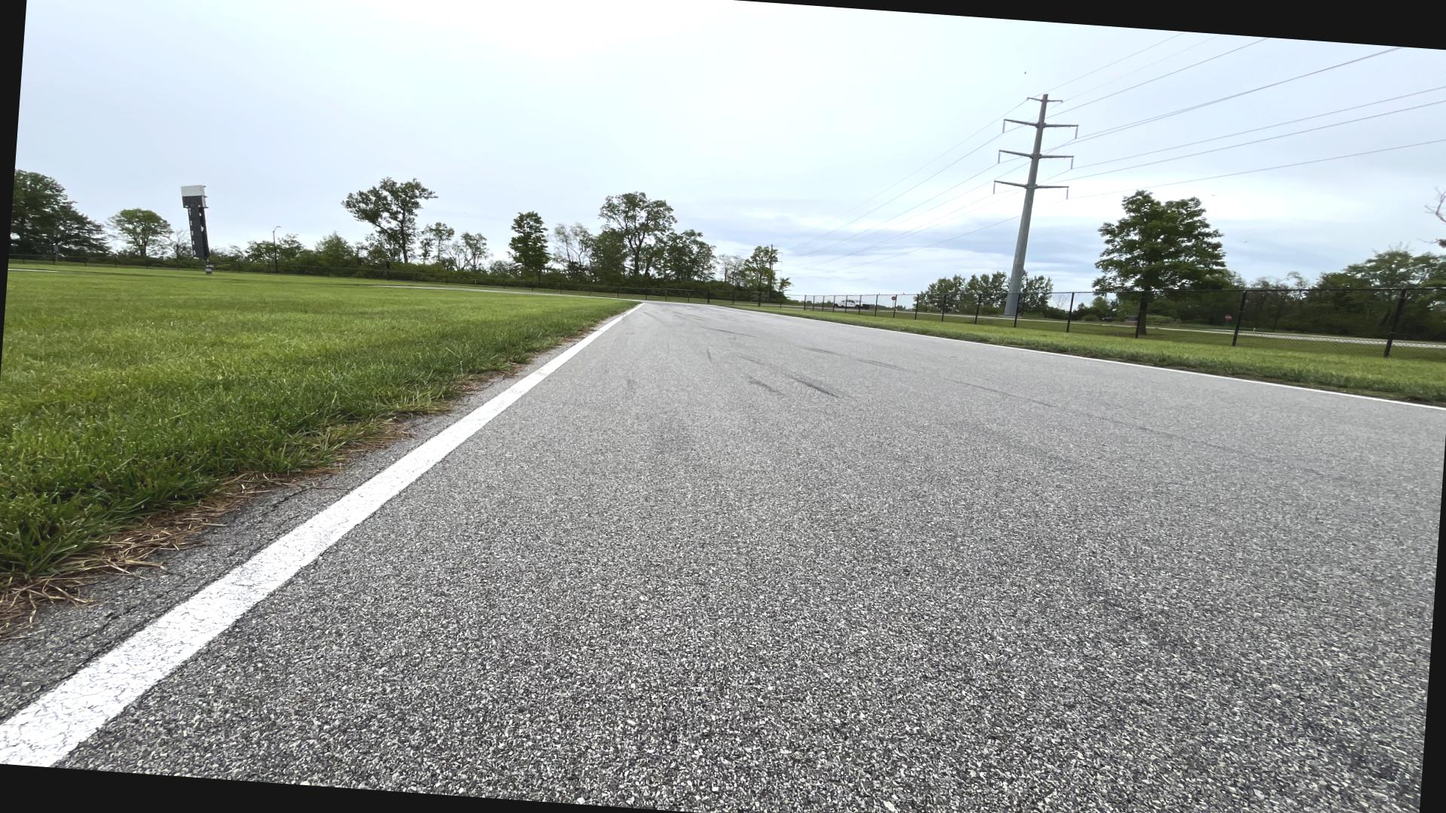white-line: (0, 303, 644, 767), (740, 310, 1445, 410)
